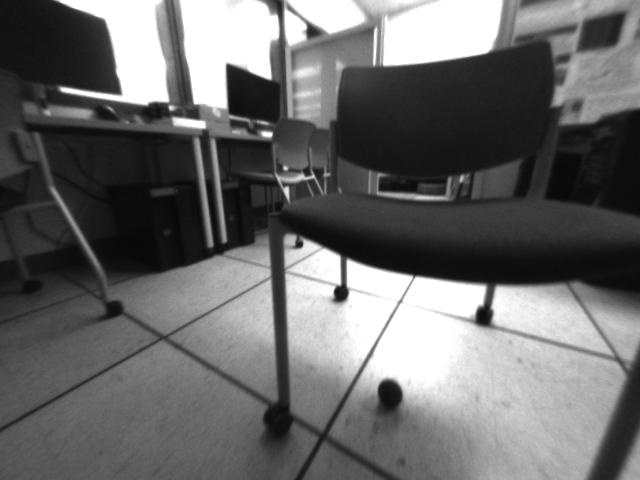dogtoy: (372, 372, 409, 413)
